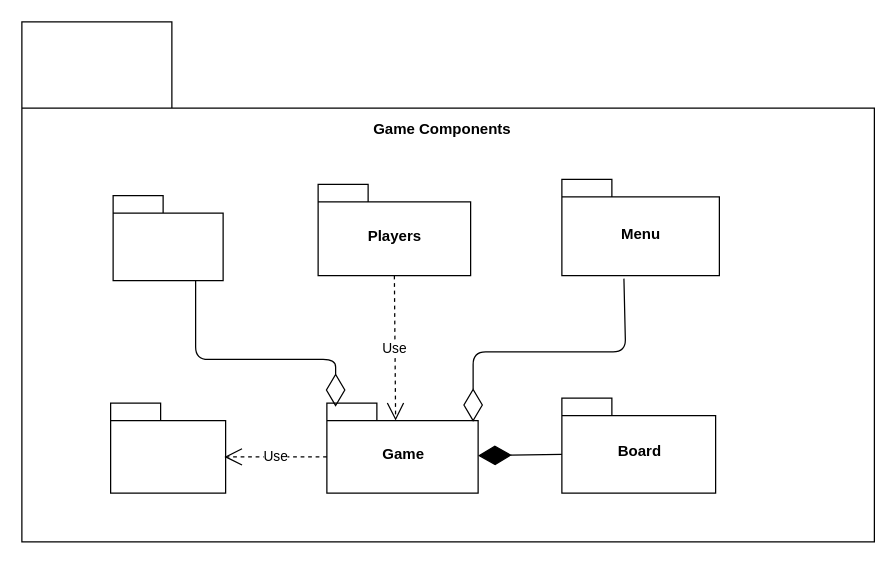
This 896x564 diagram has some shape labels left out. Here are the shapes that lost their labels. From the top down, the box of each, then its label:
(112, 194, 223, 281): Tutorial
(109, 402, 226, 493): Algorithms
